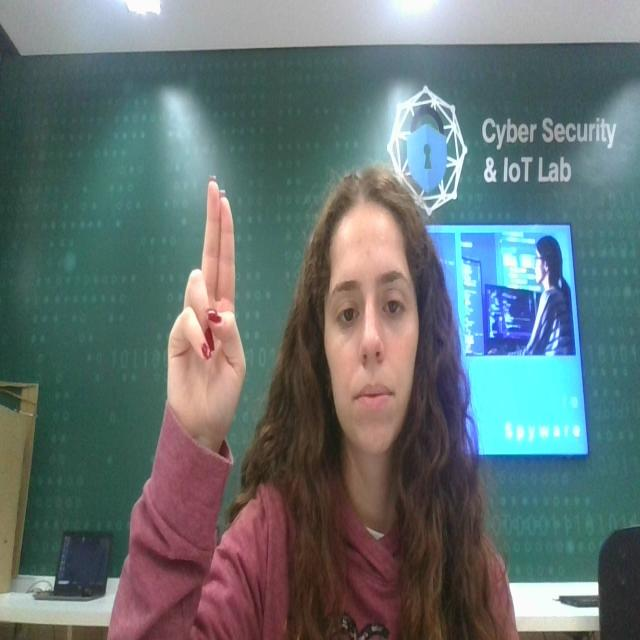U: (162, 173, 248, 440)
